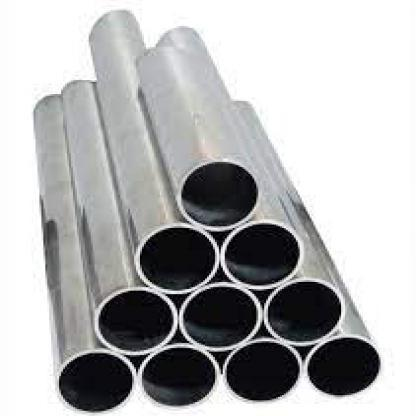pipe: (134, 224, 219, 294), (178, 160, 260, 232), (178, 282, 263, 351), (94, 287, 178, 355), (221, 221, 302, 289), (264, 278, 345, 346), (224, 339, 300, 403), (58, 350, 136, 412), (139, 346, 218, 407), (306, 336, 380, 396)
